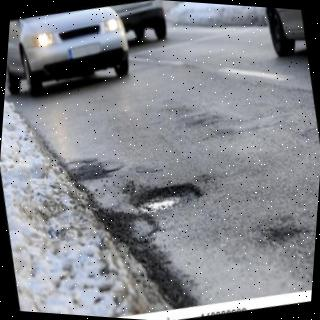pothole: (129, 183, 197, 213)
